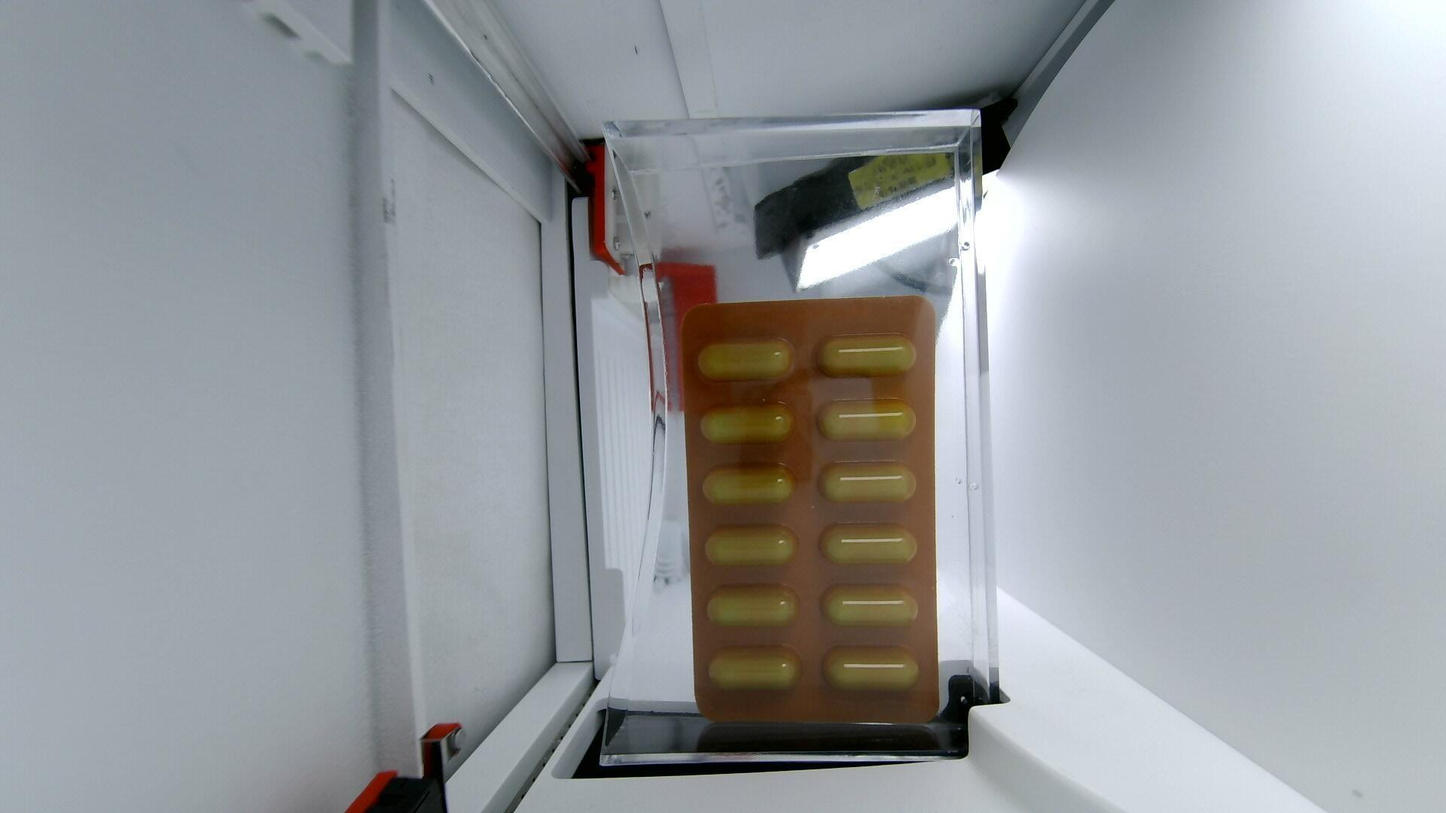Light Front: (681, 297, 939, 723)
Pill Front: (823, 646, 919, 693), (819, 333, 916, 376), (708, 646, 798, 692), (819, 398, 916, 440), (697, 339, 792, 381), (700, 403, 795, 445), (821, 461, 916, 503), (820, 524, 917, 565), (822, 585, 917, 626), (707, 587, 796, 626), (705, 528, 795, 565), (703, 466, 794, 501)
